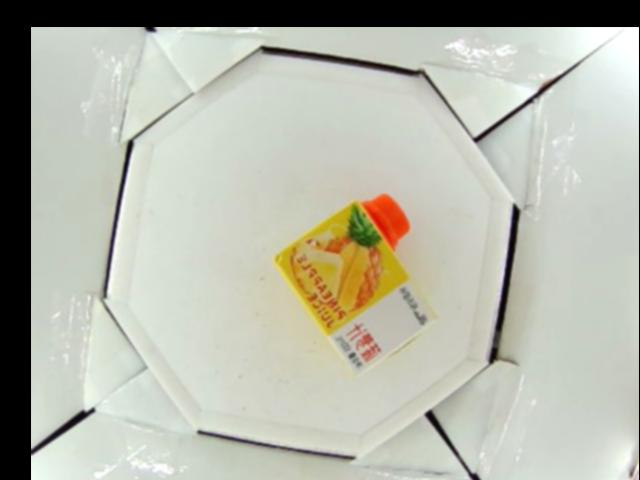Bottle: (274, 190, 436, 377)
